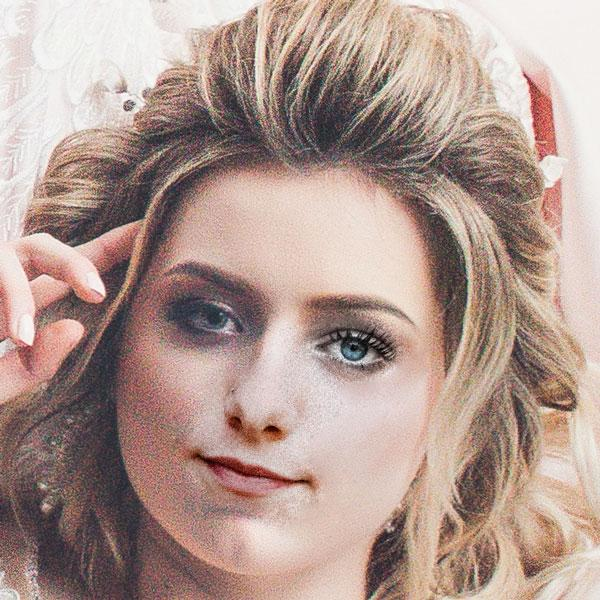Eyes: (304, 319, 400, 381), (158, 285, 249, 345)
